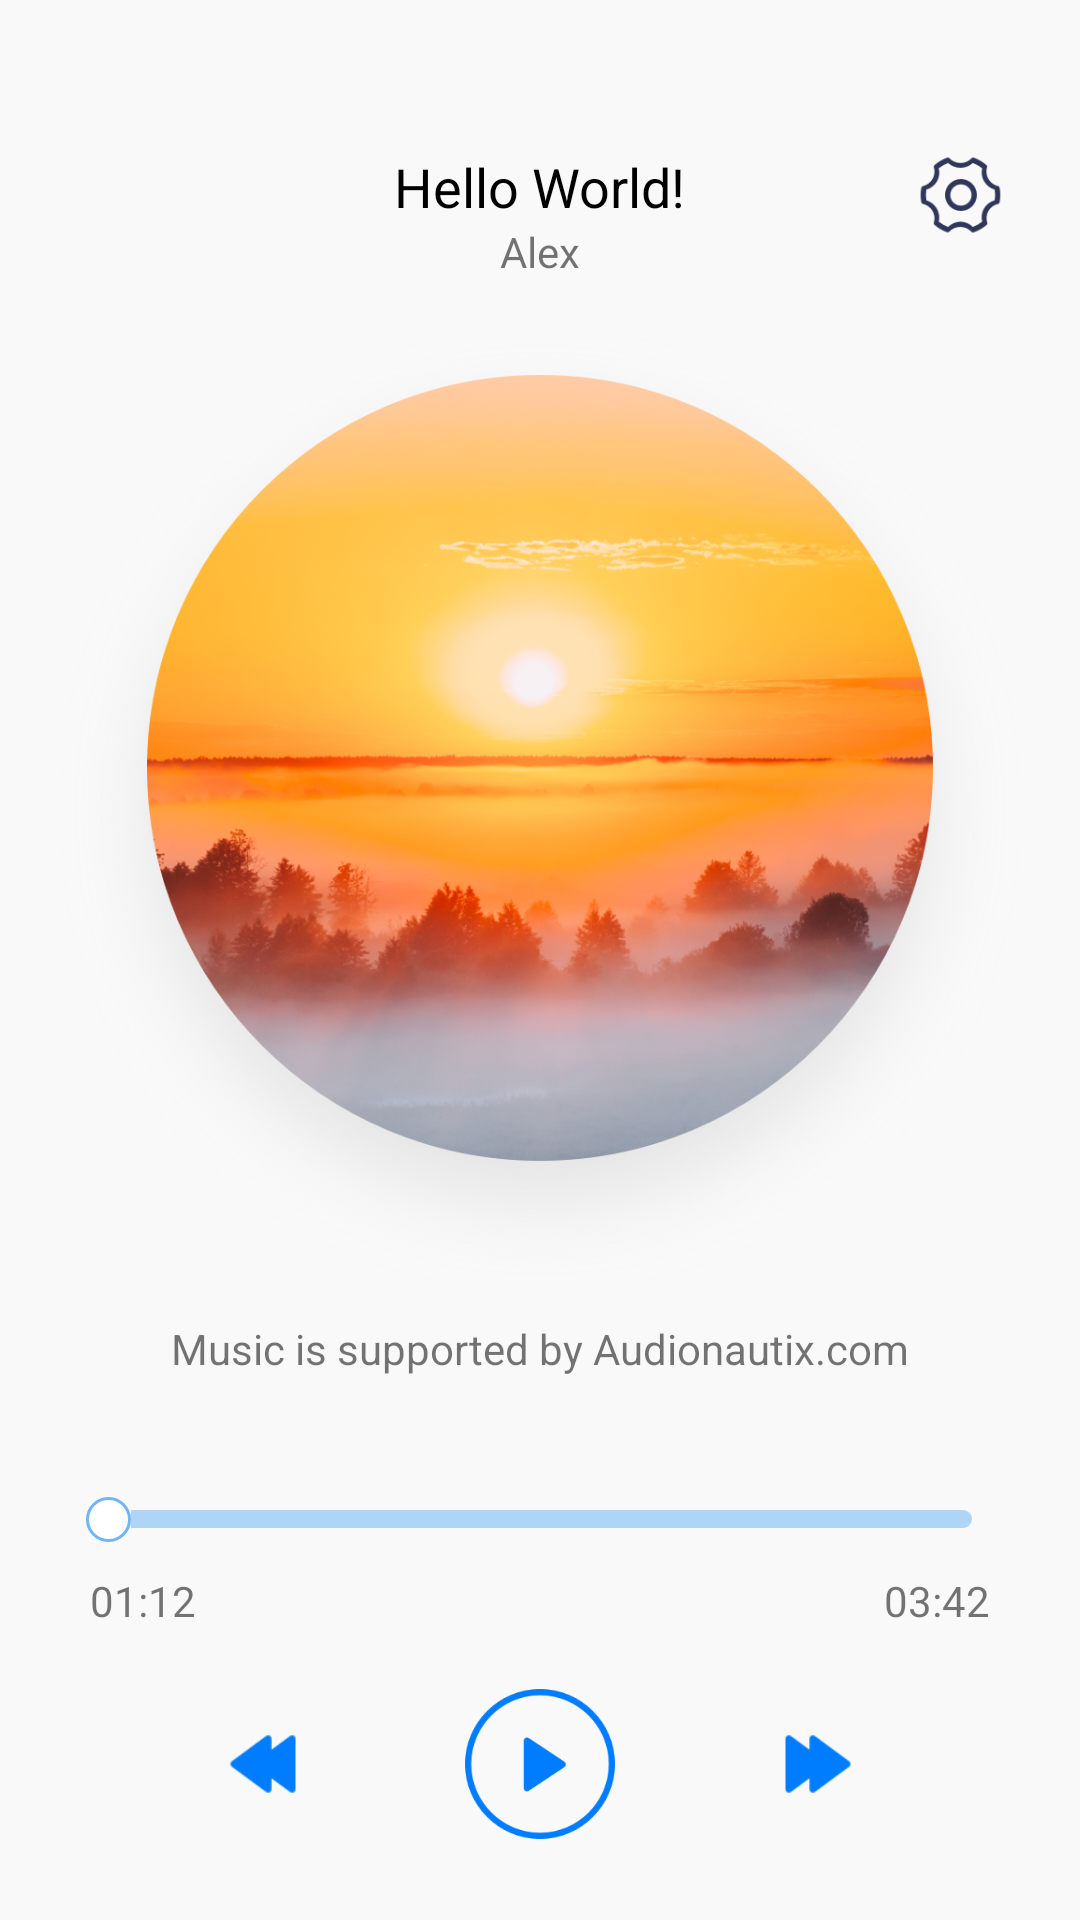

Icon bounding boxes for this 1080px×1920px phone screenshot, format box(x1, y1, x2, y2):
last: box(230, 1735, 296, 1793)
next: box(785, 1735, 851, 1793)
play: box(465, 1689, 615, 1839)
setting: box(920, 157, 1001, 233)
